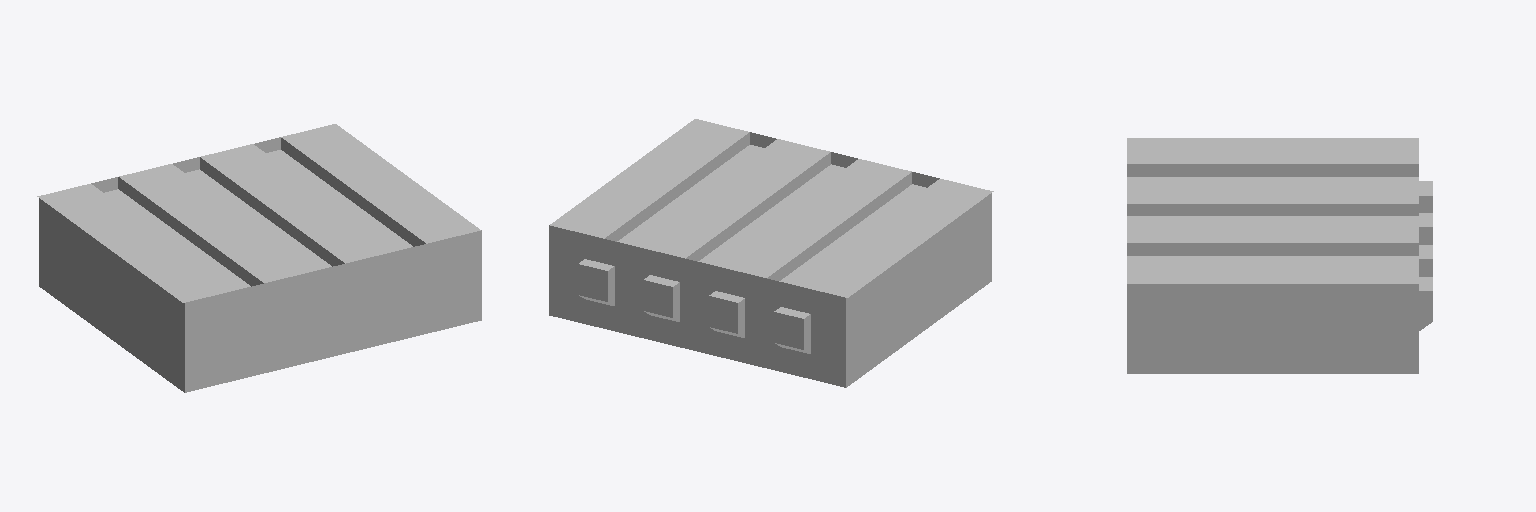
The model's file is cba ruimte 3K.obj.
The picture shows the model from 3 angles: view 1: azimuth 30°, elevation 25°; view 2: azimuth 150°, elevation 25°; view 3: azimuth 270°, elevation 25°; orthographic projection.
Visible parts, largest first — view 1: ext_muur.002_Plane.1211, ext_muur.003_Plane.3263, ext_muur.001_Plane.1210, ext_plafond.007_Plane.037, ext_plafond.005_Plane.034, ext_plafond.006_Plane.035, ext_plafond.003_Plane.032, ext_plafond.004_Plane.033, ext_plafond.002_Plane.031, ext_plafond.001_Plane.030, ext_plafond_Plane.029, ext_plafond.016_Plane.046 (+6 smaller); view 2: ext_muur.003_Plane.3263, ext_muur.013_Plane.011, ext_muur.007_Plane.006, ext_plafond.005_Plane.034, ext_plafond.007_Plane.037, ext_plafond.006_Plane.035, ext_plafond.003_Plane.032, ext_plafond.002_Plane.031, ext_plafond_Plane.029, ext_plafond.001_Plane.030, ext_plafond.004_Plane.033, ext_plafond.016_Plane.046 (+15 smaller); view 3: ext_muur_Plane.1208, ext_plafond.012_Plane.042, ext_plafond.008_Plane.038, ext_plafond.010_Plane.040, ext_plafond.007_Plane.037, ext_plafond.006_Plane.035, ext_plafond.004_Plane.033, ext_plafond.003_Plane.032, ext_plafond.001_Plane.030, ext_plafond_Plane.029, ext_plafond.005_Plane.034, ext_plafond.002_Plane.031.
Boxes of the visible parts, x1=… form: ext_muur.002_Plane.1211: x1=185, y1=230, x2=481, y2=367; ext_muur.003_Plane.3263: x1=39, y1=198, x2=184, y2=392; ext_muur.001_Plane.1210: x1=185, y1=296, x2=481, y2=392; ext_plafond.007_Plane.037: x1=319, y1=124, x2=480, y2=234; ext_plafond.005_Plane.034: x1=236, y1=144, x2=398, y2=254; ext_plafond.006_Plane.035: x1=281, y1=133, x2=443, y2=243; ext_plafond.003_Plane.032: x1=155, y1=164, x2=316, y2=274; ext_plafond.004_Plane.033: x1=201, y1=153, x2=361, y2=263; ext_plafond.002_Plane.031: x1=119, y1=172, x2=280, y2=282; ext_plafond.001_Plane.030: x1=74, y1=184, x2=235, y2=293; ext_plafond_Plane.029: x1=37, y1=192, x2=199, y2=302; ext_plafond.016_Plane.046: x1=104, y1=189, x2=250, y2=289; ext_muur.003_Plane.3263: x1=846, y1=193, x2=991, y2=387; ext_muur.013_Plane.011: x1=549, y1=225, x2=845, y2=321; ext_muur.007_Plane.006: x1=549, y1=291, x2=845, y2=387; ext_plafond.005_Plane.034: x1=632, y1=139, x2=794, y2=249; ext_plafond.007_Plane.037: x1=550, y1=119, x2=711, y2=229; ext_plafond.006_Plane.035: x1=587, y1=128, x2=748, y2=238; ext_plafond.003_Plane.032: x1=714, y1=159, x2=875, y2=269; ext_plafond.002_Plane.031: x1=750, y1=167, x2=911, y2=277; ext_plafond_Plane.029: x1=830, y1=187, x2=993, y2=297; ext_plafond.001_Plane.030: x1=795, y1=179, x2=956, y2=288; ext_plafond.004_Plane.033: x1=669, y1=148, x2=829, y2=258; ext_plafond.016_Plane.046: x1=779, y1=184, x2=925, y2=284; ext_muur_Plane.1208: x1=1127, y1=284, x2=1418, y2=373; ext_plafond.012_Plane.042: x1=1127, y1=243, x2=1418, y2=255; ext_plafond.008_Plane.038: x1=1127, y1=164, x2=1418, y2=176; ext_plafond.010_Plane.040: x1=1127, y1=204, x2=1418, y2=215; ext_plafond.007_Plane.037: x1=1127, y1=275, x2=1418, y2=283; ext_plafond.006_Plane.035: x1=1127, y1=257, x2=1418, y2=265; ext_plafond.004_Plane.033: x1=1127, y1=217, x2=1418, y2=225; ext_plafond.003_Plane.032: x1=1127, y1=195, x2=1418, y2=203; ext_plafond.001_Plane.030: x1=1127, y1=155, x2=1418, y2=163; ext_plafond_Plane.029: x1=1127, y1=138, x2=1418, y2=146; ext_plafond.005_Plane.034: x1=1127, y1=235, x2=1418, y2=242; ext_plafond.002_Plane.031: x1=1127, y1=178, x2=1418, y2=185.
Size of the model in its own units: 10.05 by 2.9 by 8.9.